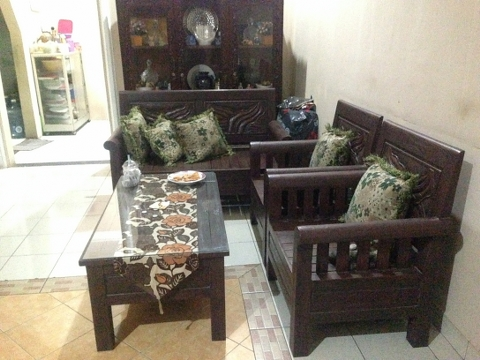kursi: (265, 120, 464, 357), (249, 100, 384, 265), (103, 88, 292, 199)
meja: (79, 171, 231, 351)
